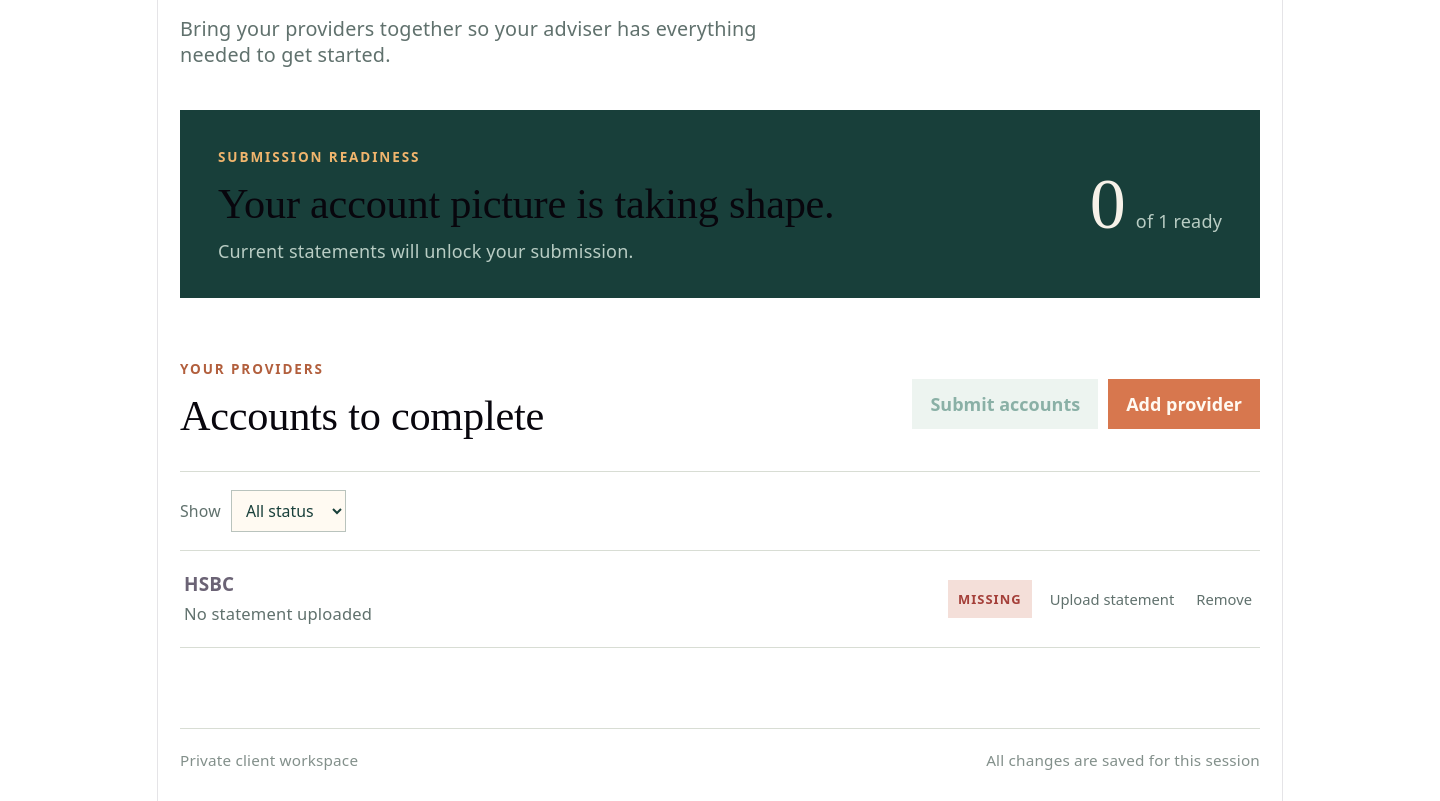
Test case: App › removes a provider after confirmation
The width and height of the screenshot is (1440, 801).
(page scrolled)
Expected: the heading "HSBC" is shown, [184,571,234,597]
Click the button "Remove" at (1224, 599), box [1192,582,1256,616]
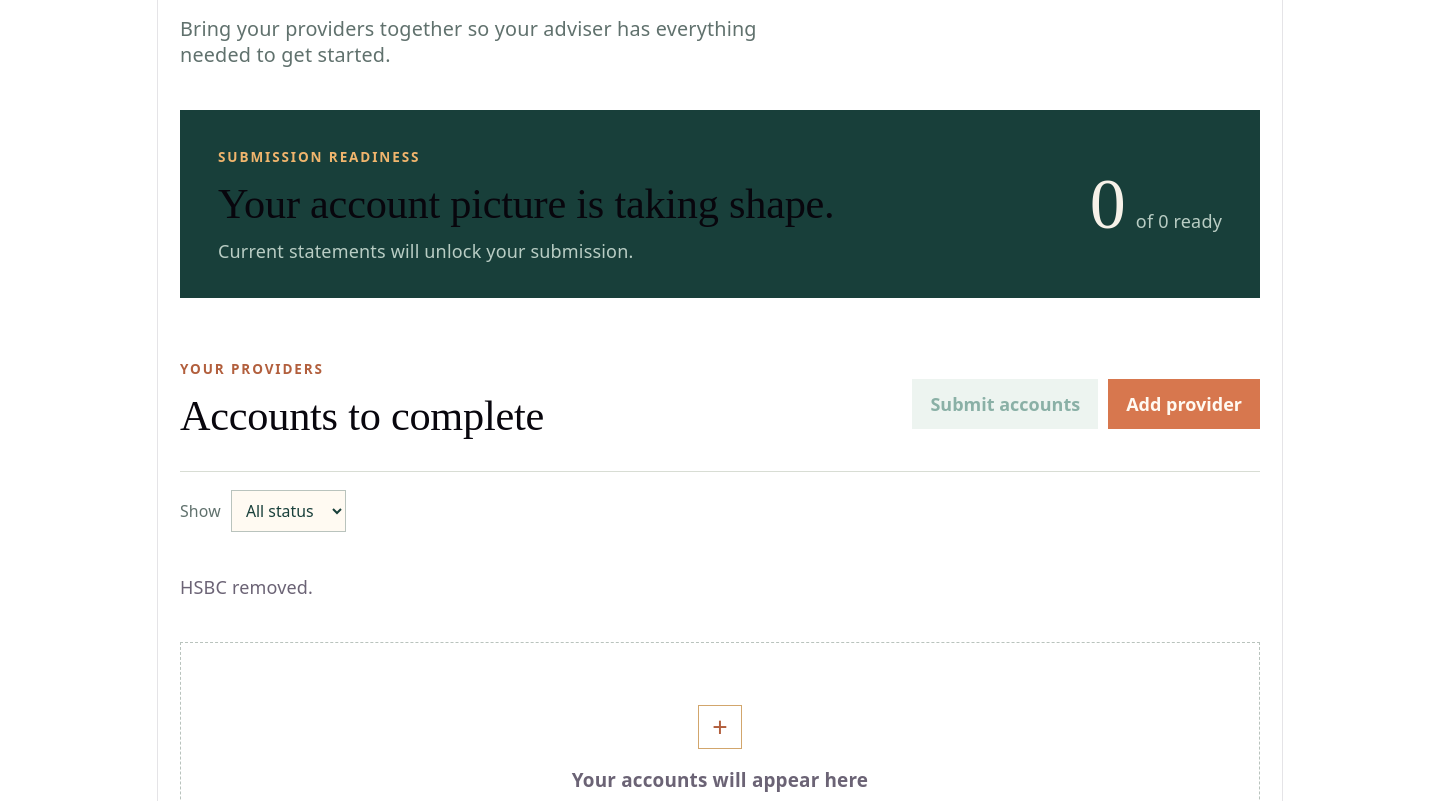
Expected: the text "HSBC removed." is shown, [180,575,313,599]
Expected: the heading "Your accounts will appear here" is shown, [572,767,868,793]
